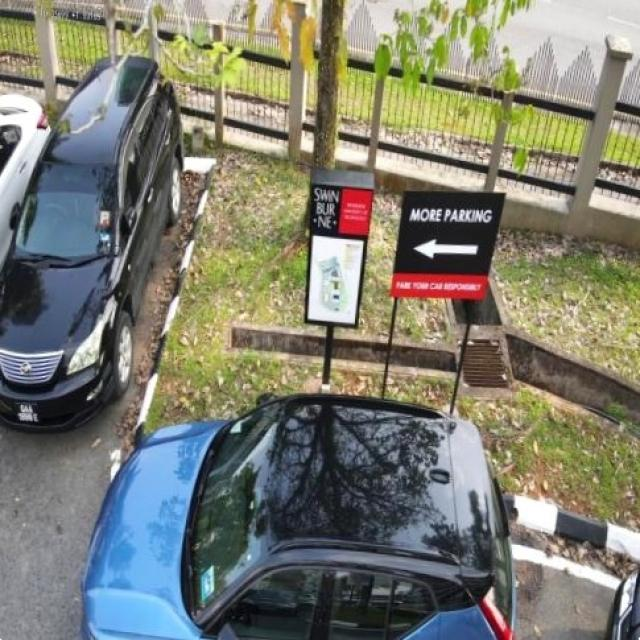Legalparking: (0, 44, 203, 464)
illegalparking: (85, 360, 538, 640)
